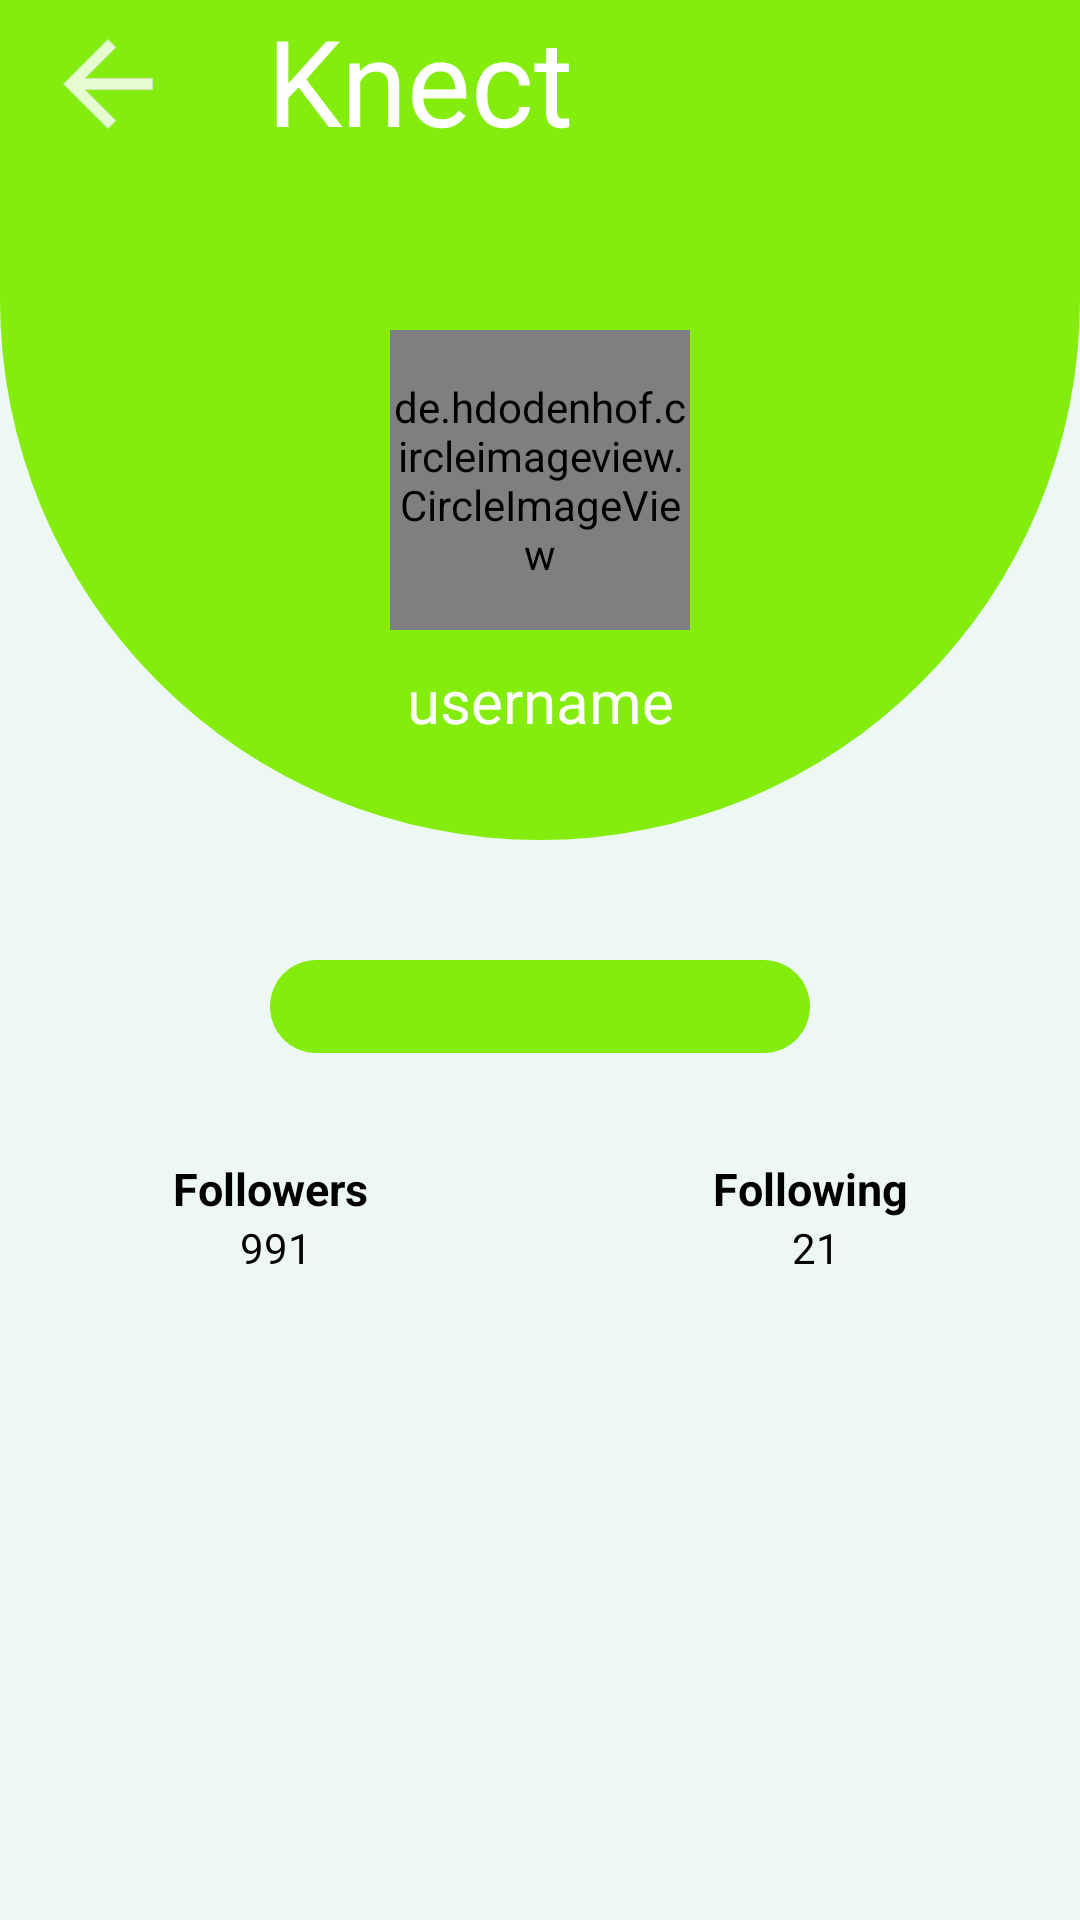

Where icons sit on this 1080×1920 app screen, as (x1, y1, x2, y2):
back: (63, 39, 153, 129)
